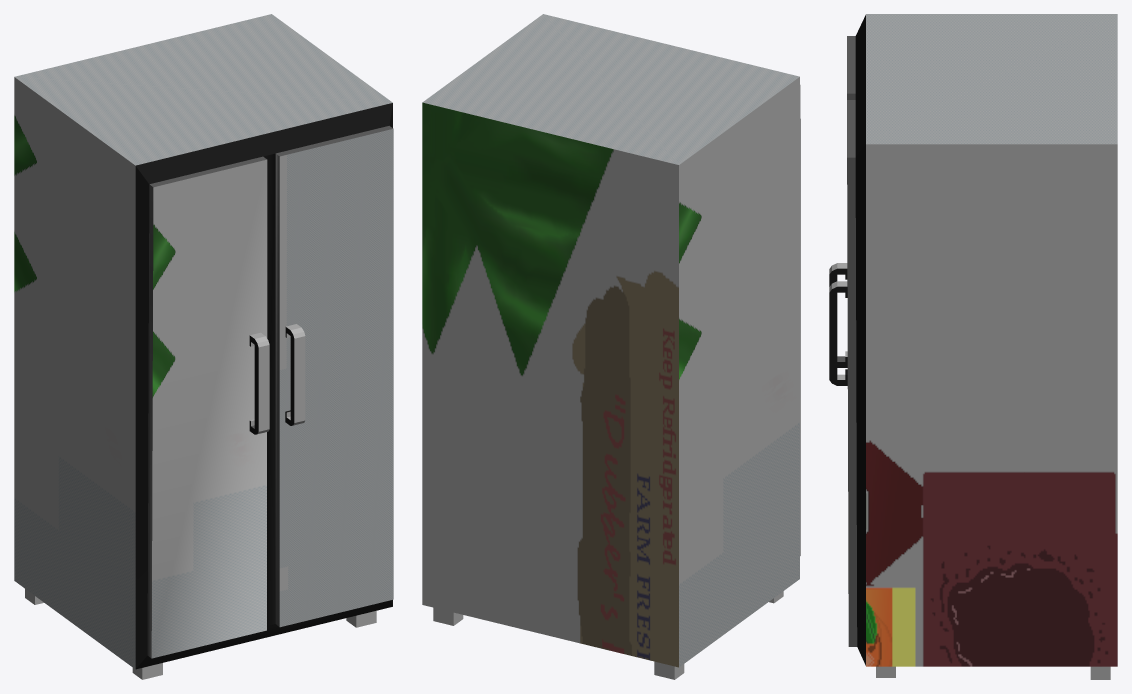
The model's file is fridge 8.fbx.
3 renders of one model, left to right at view 1: azimuth 30°, elevation 25°; view 2: azimuth 150°, elevation 25°; view 3: azimuth 270°, elevation 25°, orthographic. The views are drawn at different scales.
Visible parts, largest first — view 1: Cube; view 2: Cube; view 3: Cube.
Part boxes in pixels (x1,y1,x2,y2): Cube: [14, 14, 393, 679]; Cube: [422, 14, 800, 679]; Cube: [829, 14, 1117, 679].
Bounding box in the file's own units: 200 × 386 × 187.
